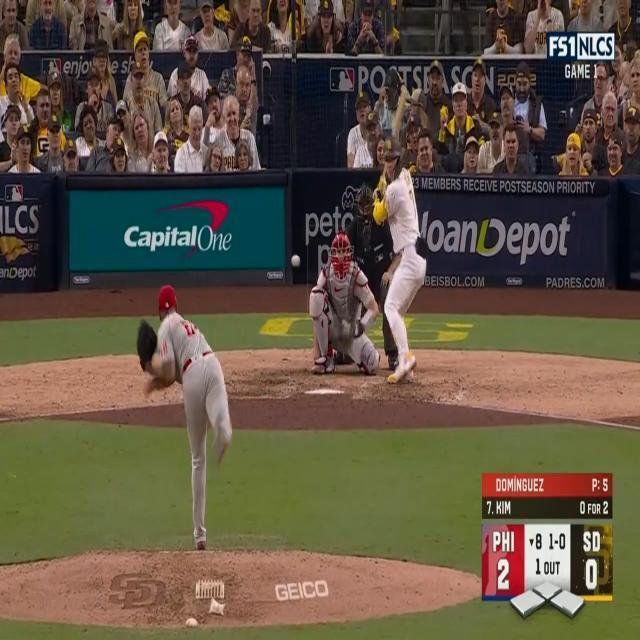sports ball: (290, 254, 302, 266)
